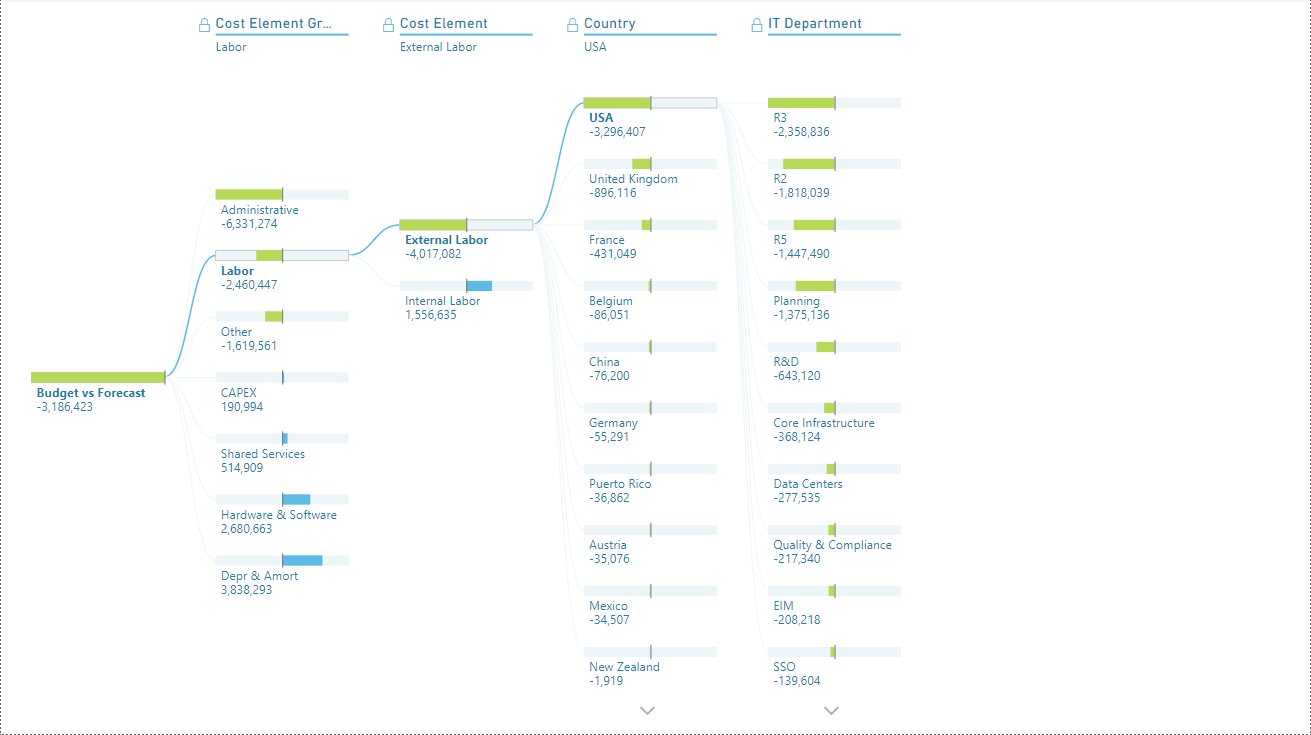

What the dashboard file says about the page in this screenshot:
{"tool":"powerbi","page":{"name":"Decomposition","canvas":[1280,720],"ordinal":2},"visuals":[{"type":"decompositionTreeVisual","fields":{"Analyze":["Budget.Budget vs Forecast"],"ExplainBy":["CostElements.Cost Element Group","CostElements.Cost Element","Regions.Country","Departments.IT Department"]},"box":[0,0,1279.9,720],"z":0}]}

Visuals, with their boxes in screenshot pixels (x1, y1, x2, y2), scaled from the page's 1280x720 canvas onto the 1311x735 screenshot:
decompositionTreeVisual - Budget.Budget vs Forecast x CostElements.Cost Element Group: (0, 0, 1310, 734)
